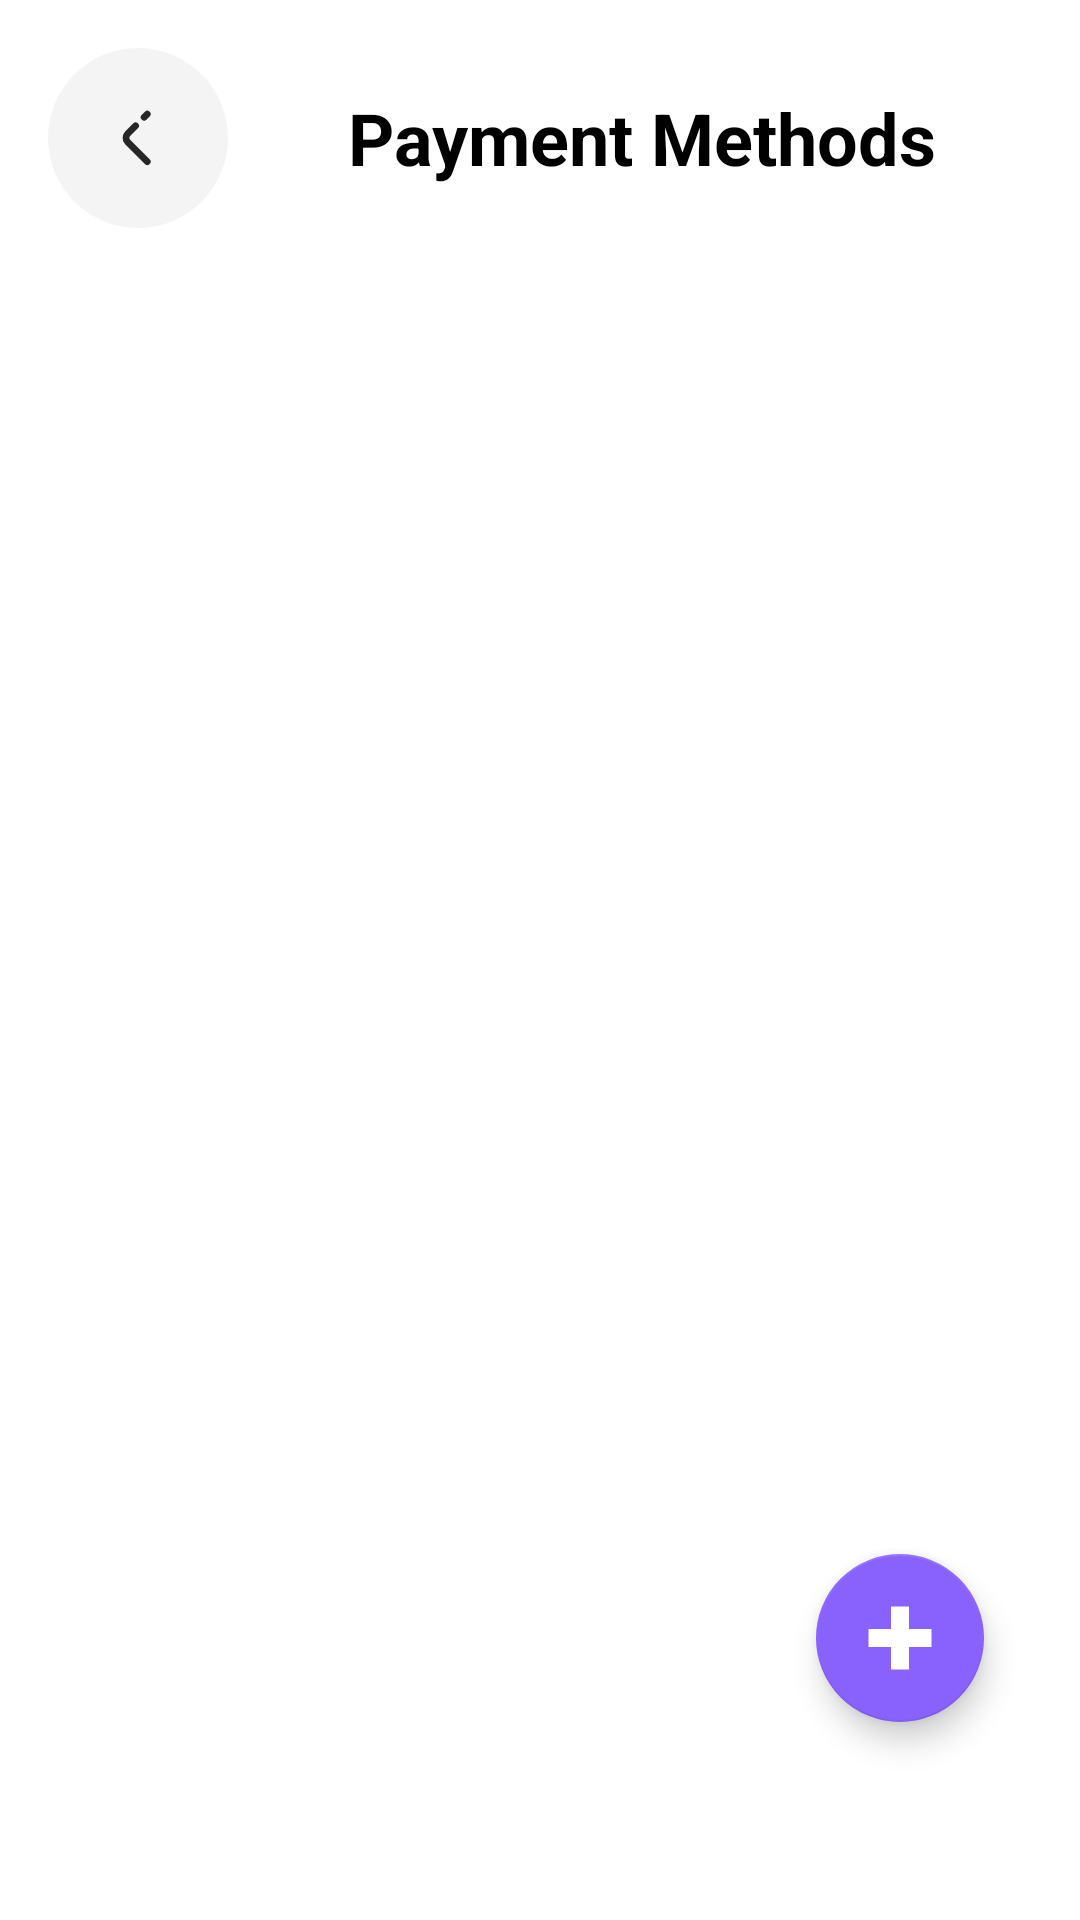

Named icons in this screenshot (1080px×1920px) and their centers, point (x, y):
arrow back: point (138, 138)
plus: point (900, 1638)
